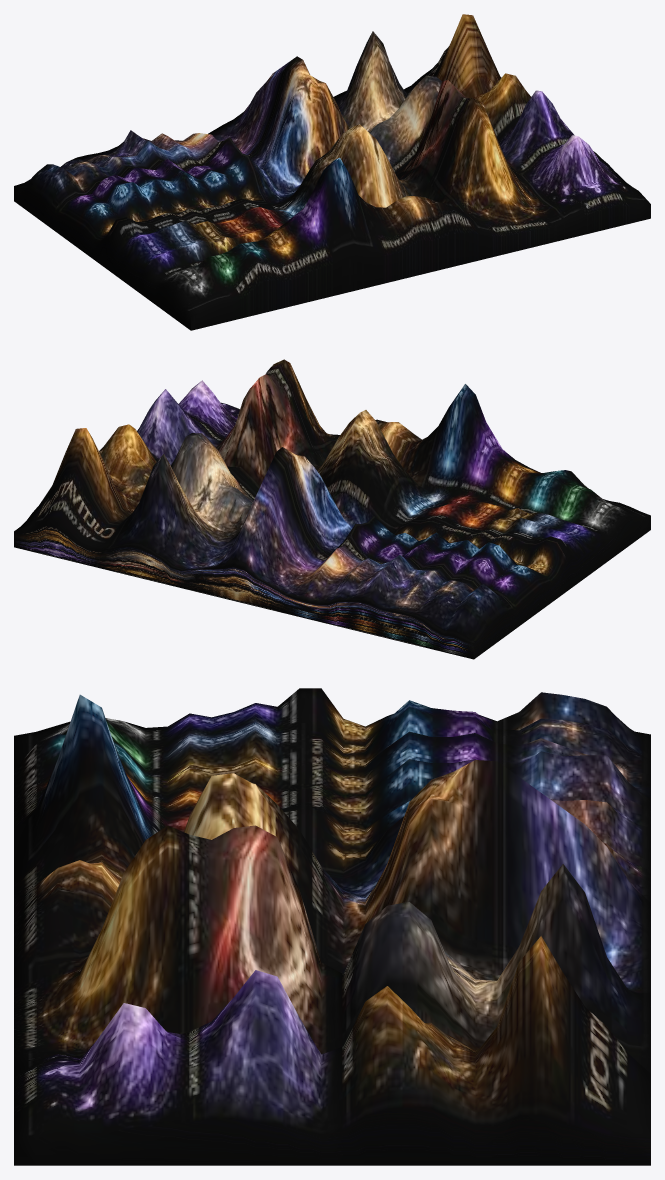
Rendered from Breakthrough_VFX_12_Realms.glb.
3 renders of one model, top to bottom at view 1: azimuth 30°, elevation 25°; view 2: azimuth 150°, elevation 25°; view 3: azimuth 270°, elevation 25°, orthographic. The views are drawn at different scales.
Parts seen in each view (by area): view 1: Breakthrough_VFX_12_Realms; view 2: Breakthrough_VFX_12_Realms; view 3: Breakthrough_VFX_12_Realms.
Boxes of the visible parts, bbox=[...] form: Breakthrough_VFX_12_Realms: bbox=[14, 14, 650, 330]; Breakthrough_VFX_12_Realms: bbox=[14, 359, 650, 659]; Breakthrough_VFX_12_Realms: bbox=[14, 688, 650, 1165].
Size of the model in its own units: 2 by 0.51 by 1.33.
1 material, 1 textured.
